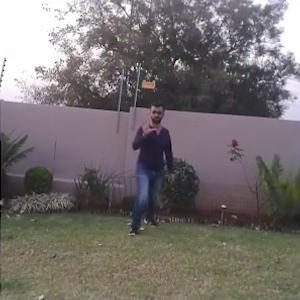follow_hand: (136, 112, 157, 139)
